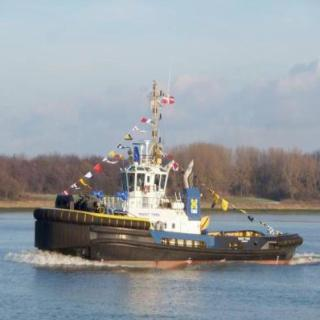Tug Boat: (38, 117, 300, 260)
